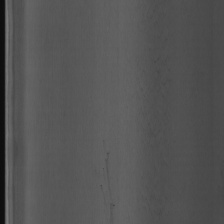inclusion: (133, 4, 175, 217), (100, 152, 114, 211)
